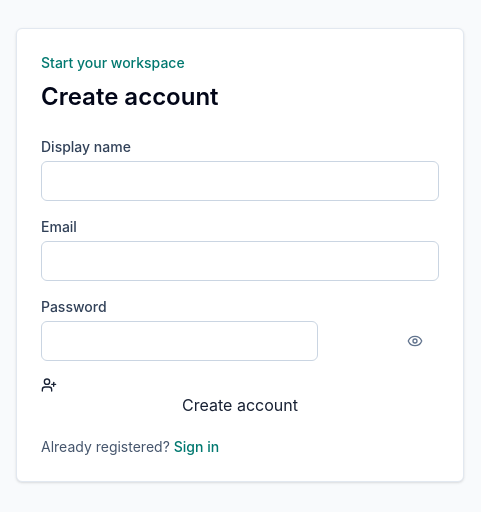
it: auth pages › validates the register form password policy
In the field labelled "Display name": (240,181) [41, 161, 439, 201], type "Ada"
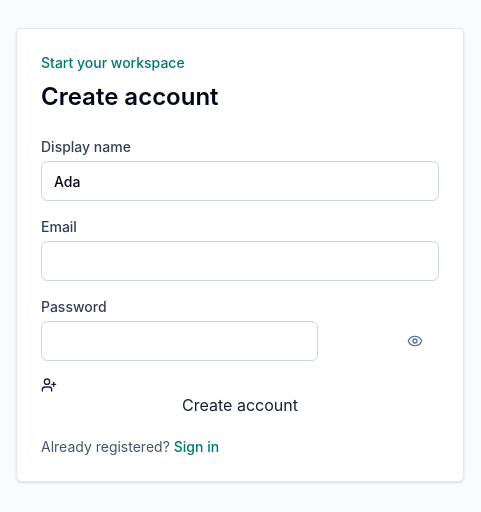
In the field labelled "Email": (240,261) [41, 241, 439, 281], type "ada@example.com"
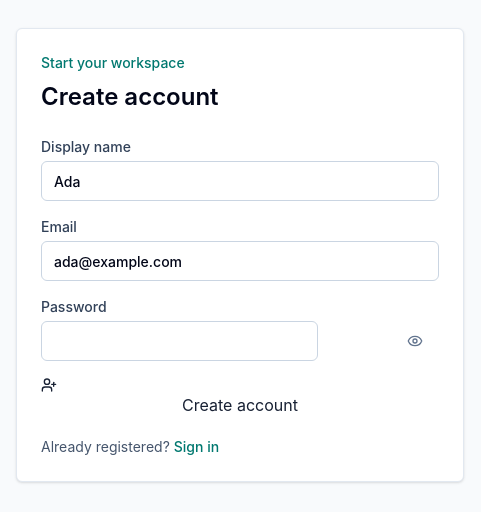
In the password field labelled "Password": (180,341) [41, 321, 318, 361], type "password"
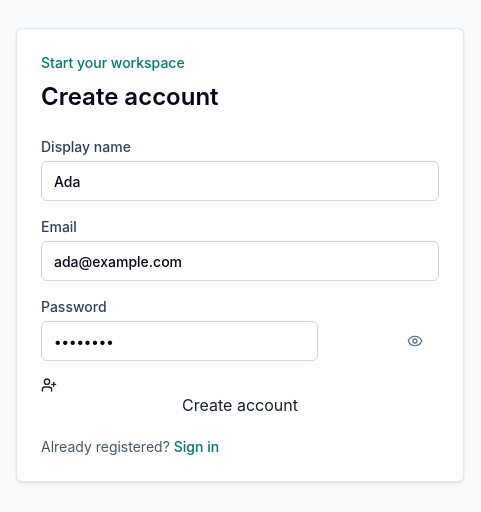
Click the button "Create account": (240,397) [41, 377, 439, 417]
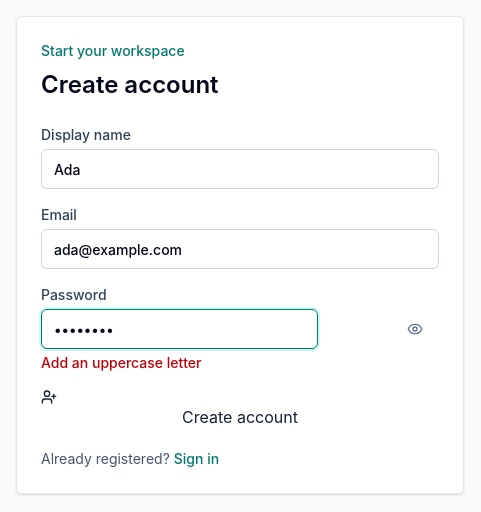
Expected: the text "Add an uppercase letter" is shown, [41, 354, 202, 371]
